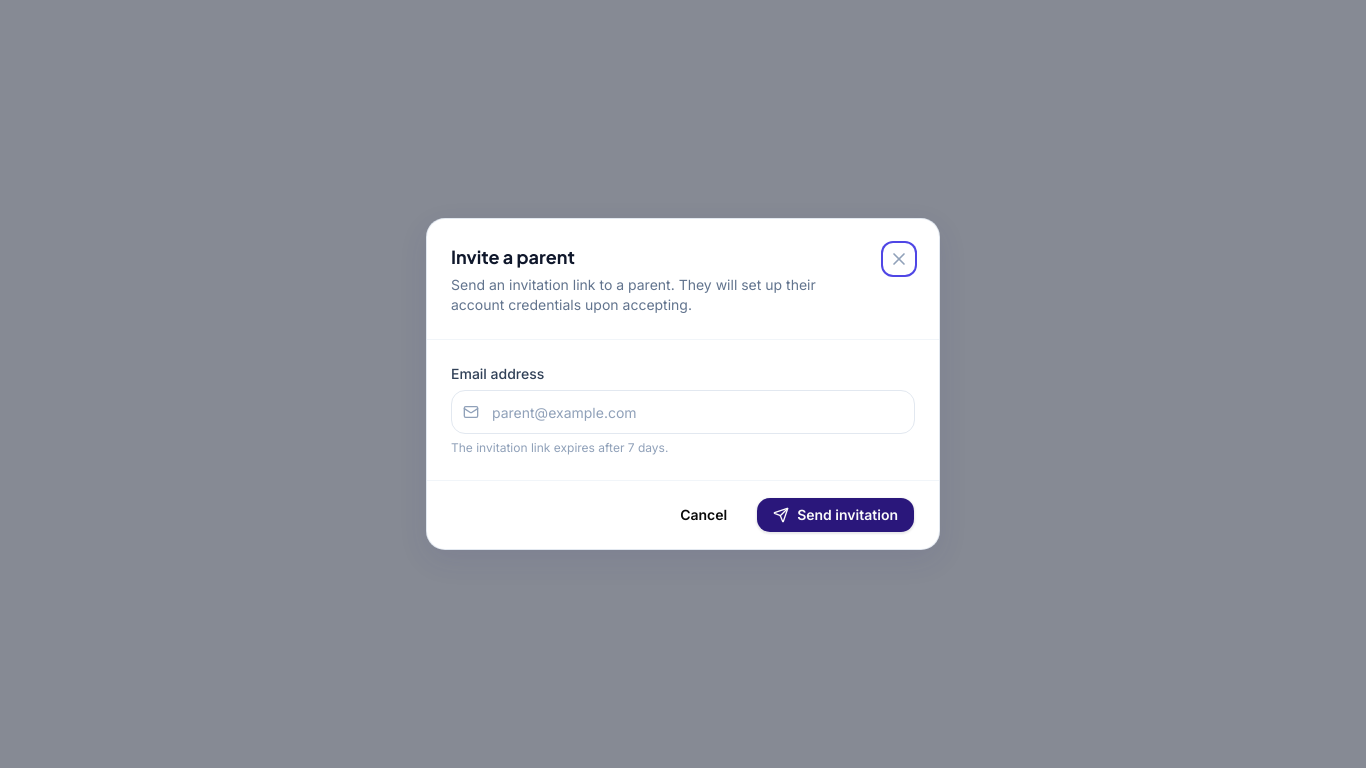
Test: InviteParentModal › validates that parent email is required and formatted properly
Note: Click send without entering email
Click the button "Send invitation". click: x=836, y=515
box: [756,497,915,533]
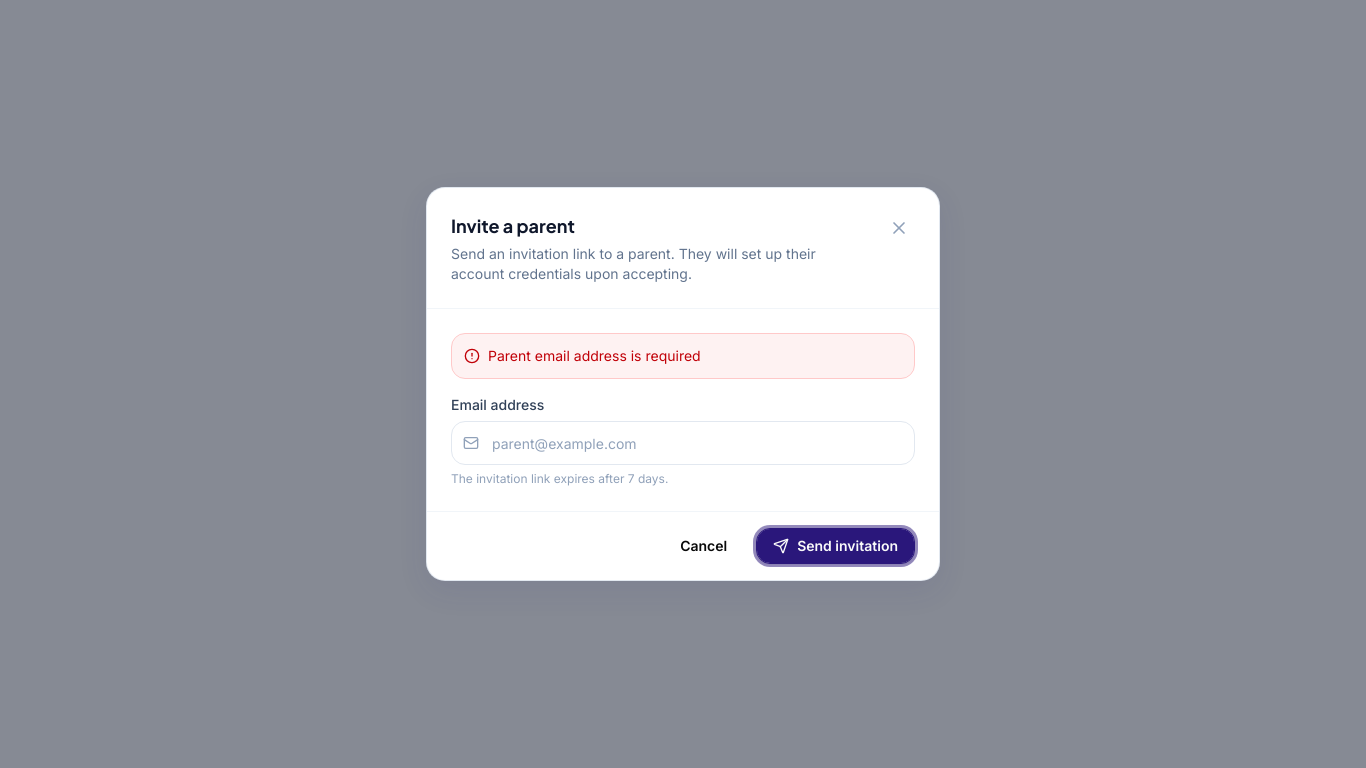
Check: the message reads "Parent email address is required", box [488,347,701,364]
Note: Enter invalid email
Type "invalid-email" into the field labelled "Email address". click: x=683, y=443
box: [451,421,915,465]
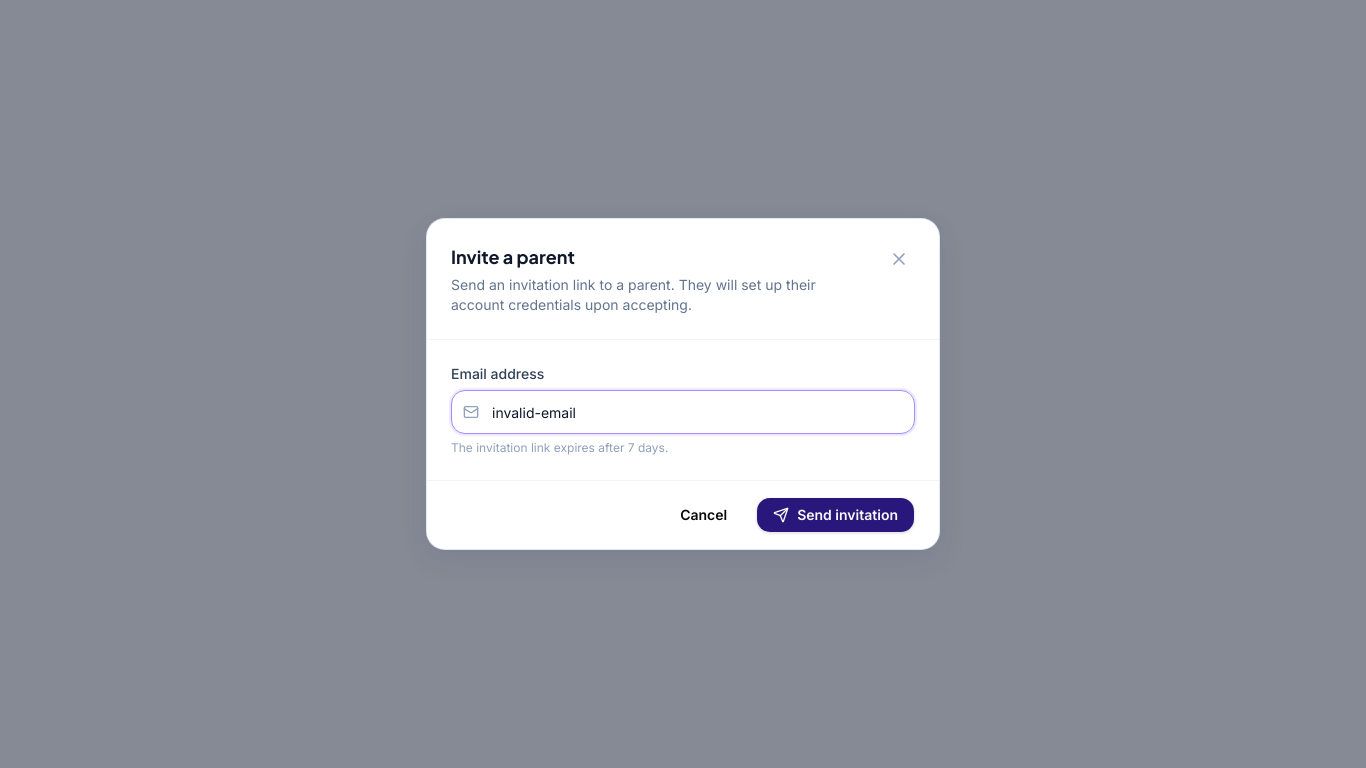
Click the button "Send invitation". click: x=836, y=515
box: [756,497,915,533]
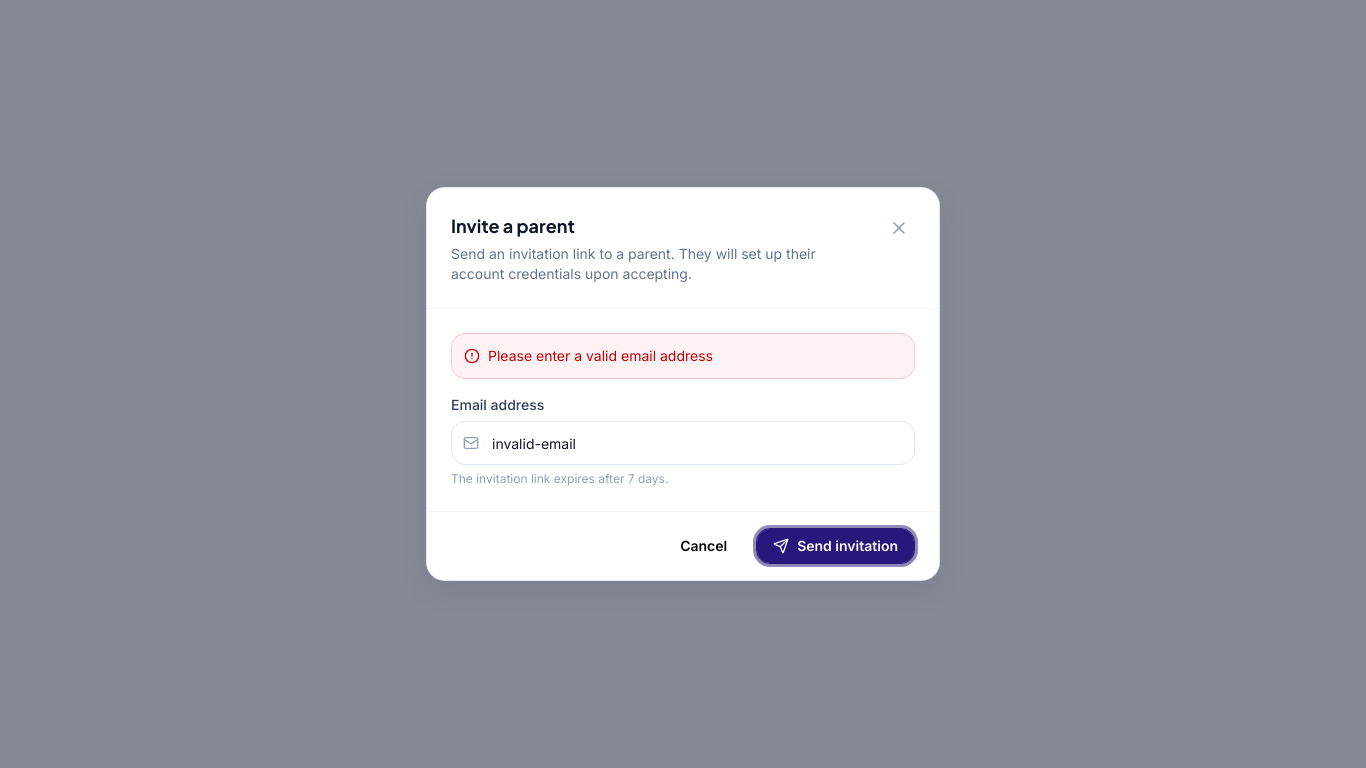
Check: the message shows "valid email address", box [488,347,713,364]
